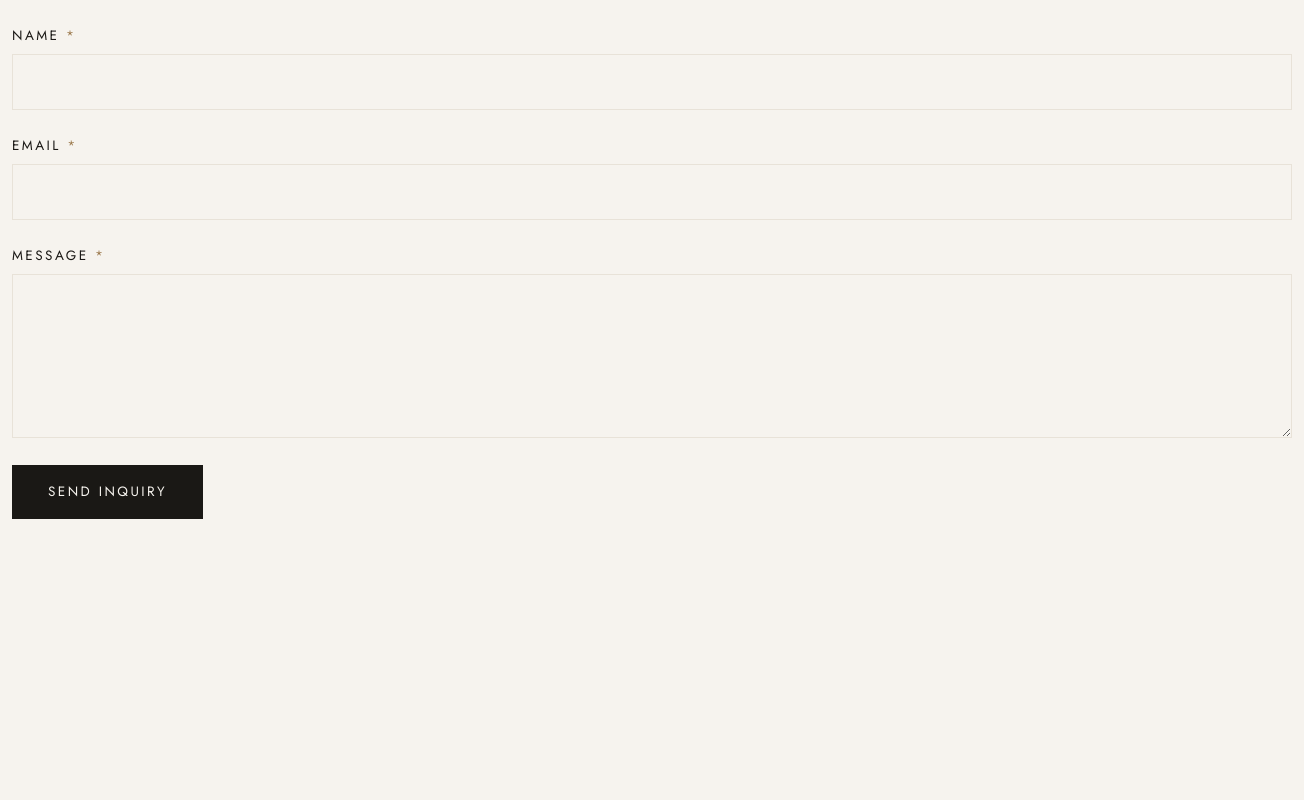
Test: ContactForm › shows validation errors and does not submit when fields are empty
Step 1. Click the button "Send Inquiry" → point(108, 492), box x1=12 y1=465 x2=203 y2=519
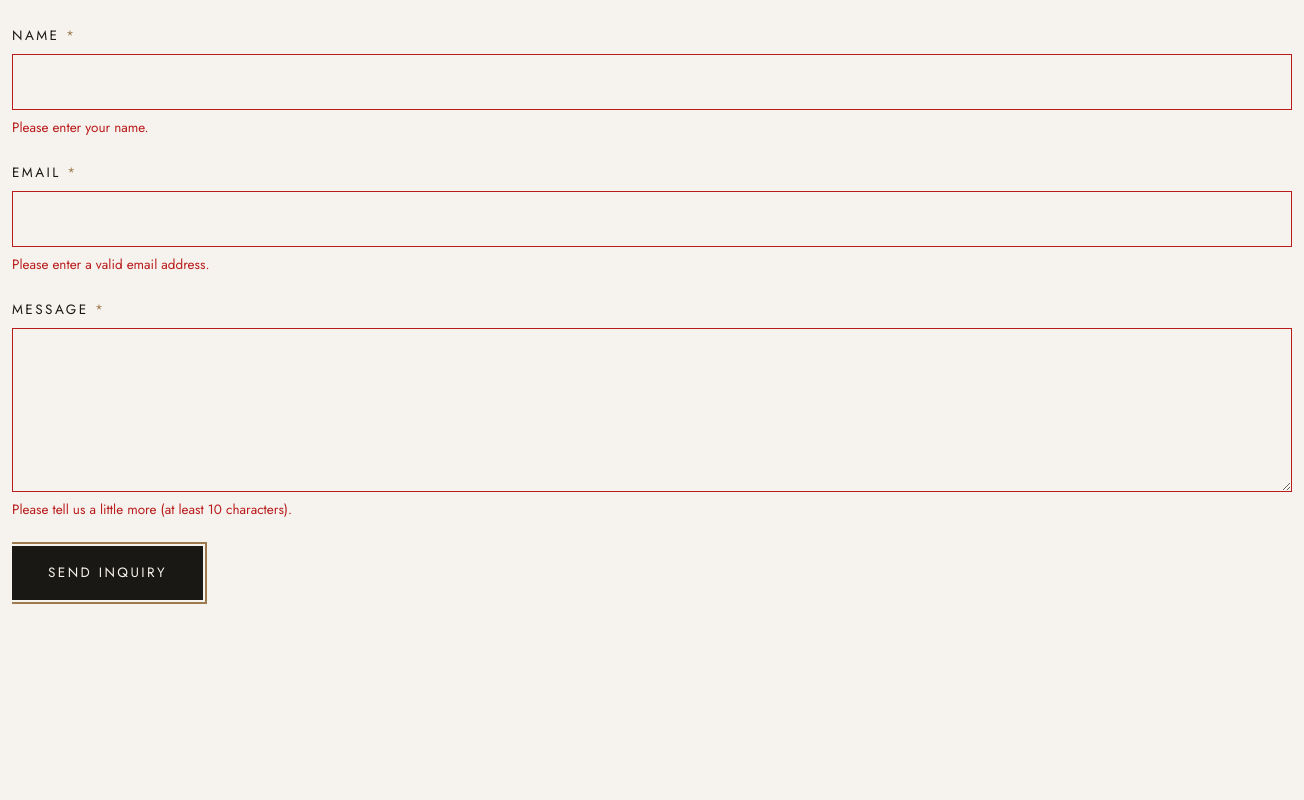
Check: the text "Please enter your name." is shown, box x1=12 y1=118 x2=149 y2=137
